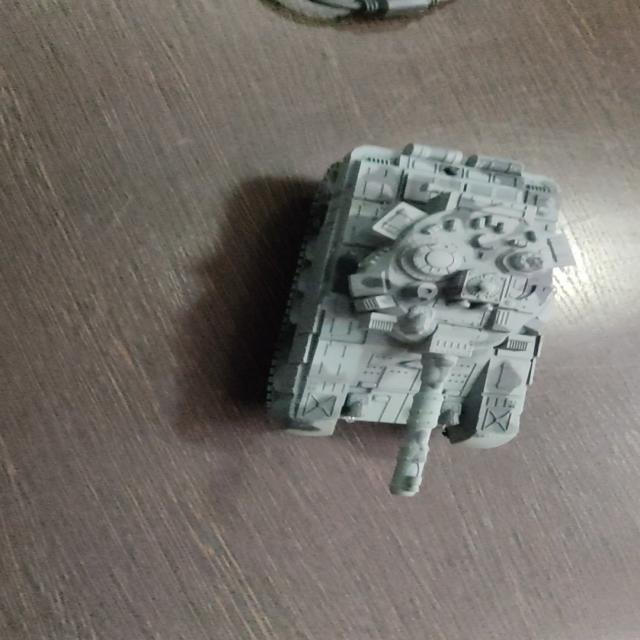tank: (279, 143, 568, 495)
